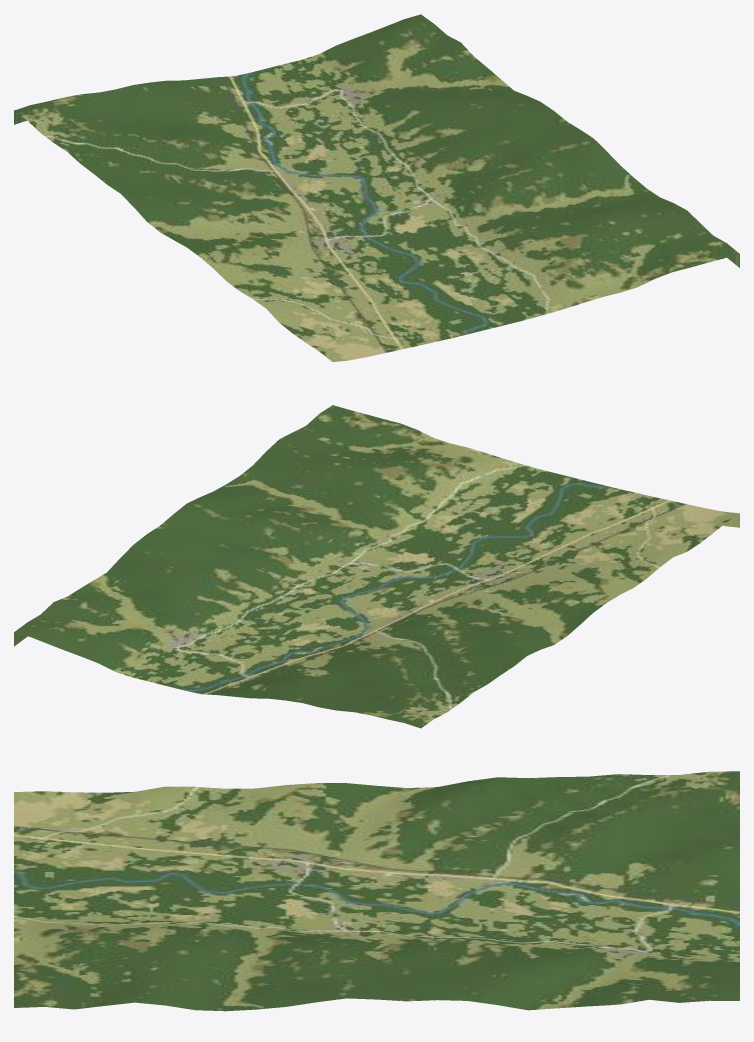
The picture shows the model from 3 angles, top to bottom: view 1: azimuth 30°, elevation 25°; view 2: azimuth 150°, elevation 25°; view 3: azimuth 270°, elevation 25°; orthographic projection. The views are drawn at different scales.
Size of the model in its own units: 3600 by 330 by 4883.
Materials: 1 (1 with a texture image).
